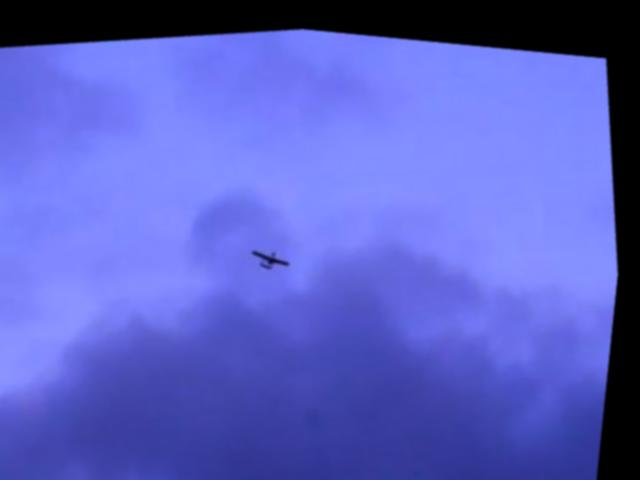uav: (252, 236, 299, 270)
